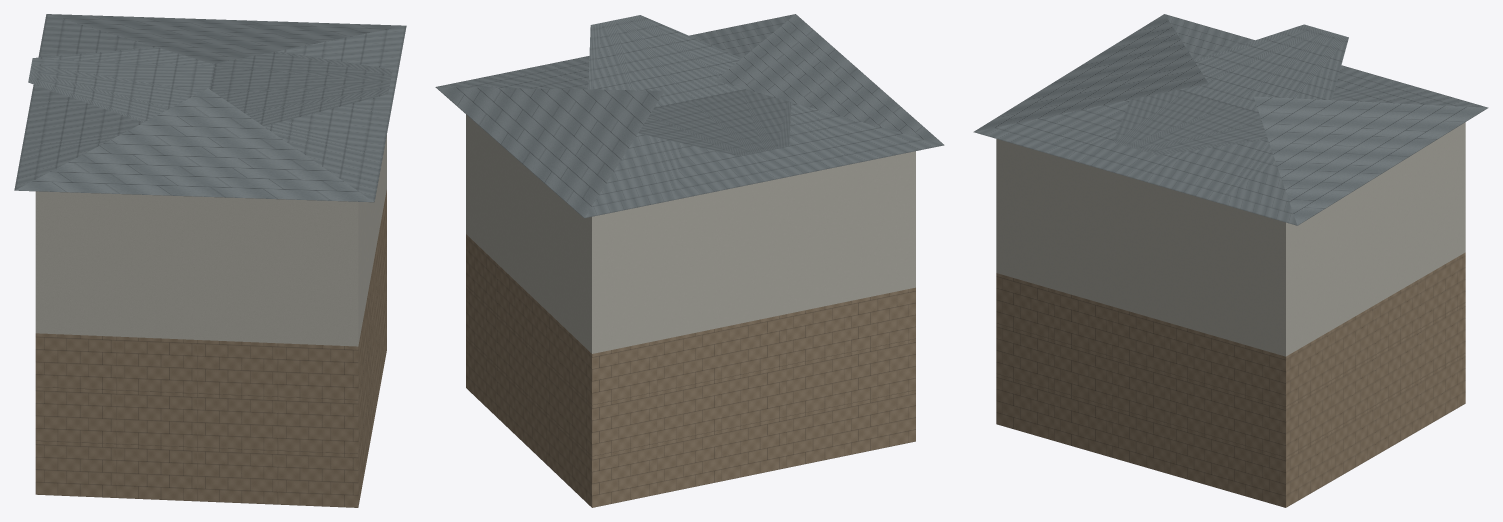
Rendered from bld_c20_44_396.gltf.
3 renders of one model, left to right at view 1: azimuth 30°, elevation 25°; view 2: azimuth 150°, elevation 25°; view 3: azimuth 270°, elevation 25°, orthographic. The views are drawn at different scales.
Visible parts, largest first — view 1: bld_c20_44_396; view 2: bld_c20_44_396; view 3: bld_c20_44_396.
Boxes of the visible parts, left/top/right/bottom form: bld_c20_44_396: left=14, top=14, right=406, bottom=507; bld_c20_44_396: left=435, top=14, right=944, bottom=507; bld_c20_44_396: left=973, top=14, right=1488, bottom=507.
Size of the model in its own units: 15.15 by 10.8 by 15.58.
3 materials, 3 textured.
